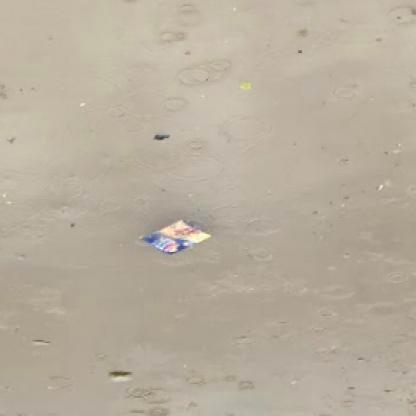Trash: (142, 212, 211, 258)
